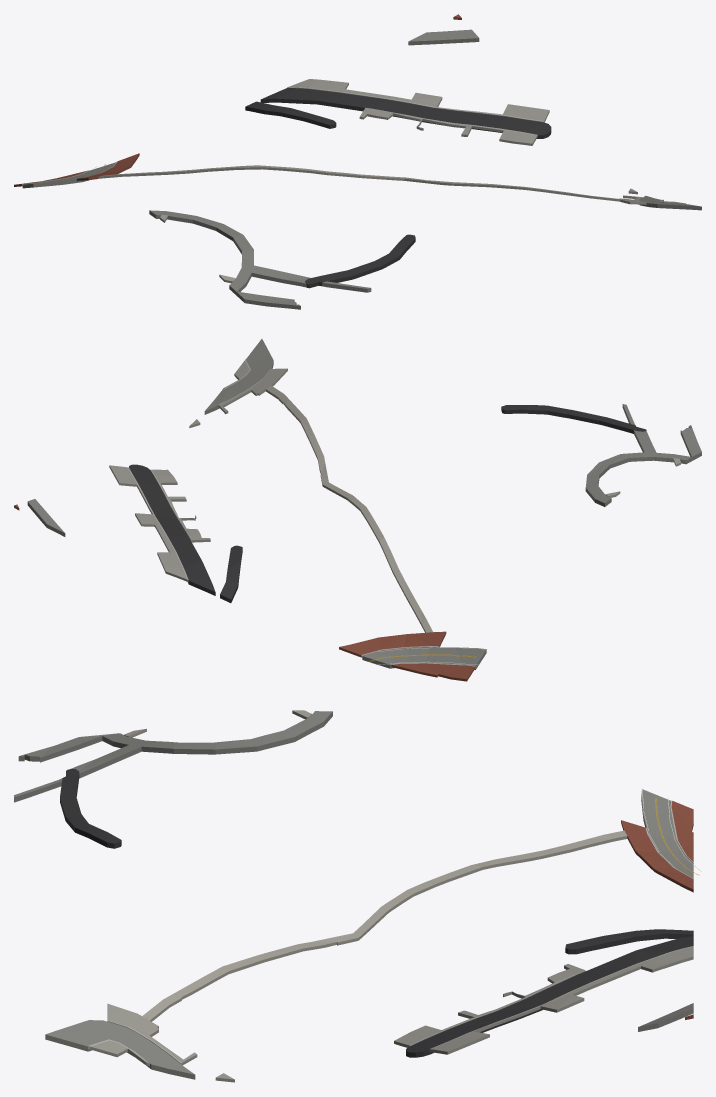
3 views of the same model, one above another, from view 1: azimuth 30°, elevation 25°; view 2: azimuth 150°, elevation 25°; view 3: azimuth 270°, elevation 25° (orthographic). The views are drawn at different scales.
Size of the model in its own units: 147 by 25.95 by 148.
